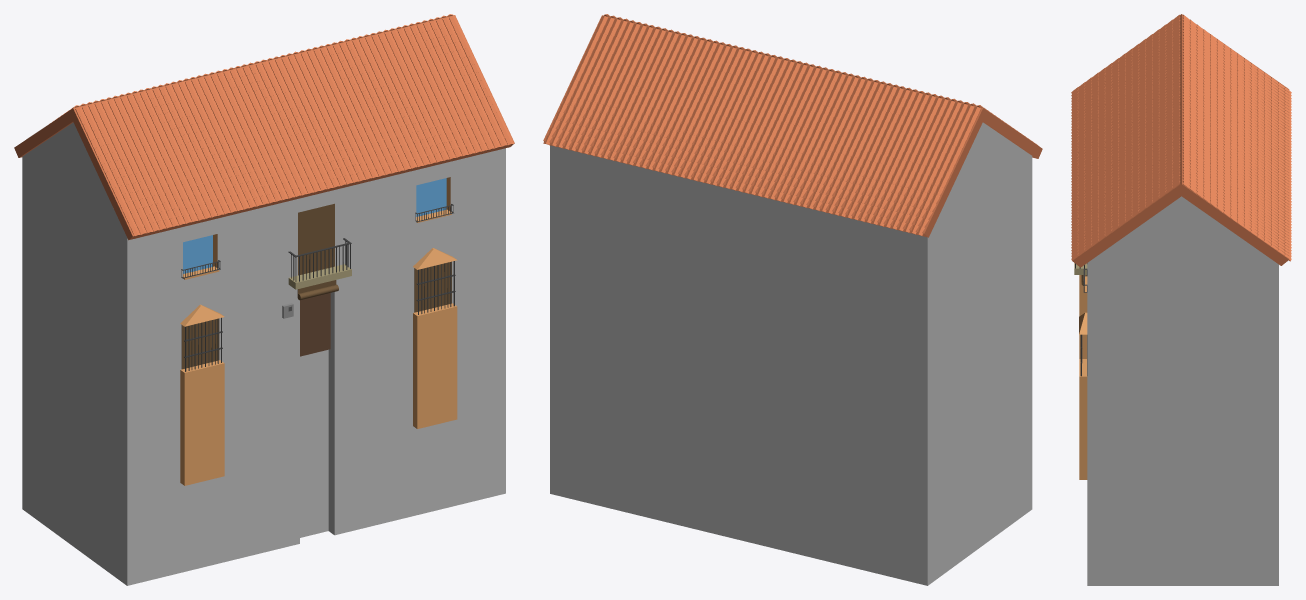
Rendered from 4_Casa_Benarraba_Javier_Sanchez.fbx.
The picture shows the model from 3 angles, left to right: view 1: azimuth 30°, elevation 25°; view 2: azimuth 150°, elevation 25°; view 3: azimuth 270°, elevation 25°; orthographic projection. The views are drawn at different scales.
Parts seen in each view (by area): view 1: Cube.016, Tejas_2.003, Cube.027, Cube.029, Cube.018, Plane.009, Cylinder, Plane.008, Plane.011, Barandilla1.004, Plane.010, Plane.006 (+2 smaller); view 2: Cube.016, Tejas_2.003, Cube.018; view 3: Cube.016, Tejas_2.003, Cube.018, Cube.027, Cube.029.
Boxes of the visible parts, <box> form: Cube.016: <box>22,122,505,585</box>; Tejas_2.003: <box>50,14,513,236</box>; Cube.027: <box>413,303,457,428</box>; Cube.029: <box>180,360,224,485</box>; Cube.018: <box>14,15,514,240</box>; Plane.009: <box>298,203,334,275</box>; Cylinder: <box>184,261,455,371</box>; Plane.008: <box>300,293,330,356</box>; Plane.011: <box>181,318,219,369</box>; Barandilla1.004: <box>181,204,453,281</box>; Plane.010: <box>414,261,451,312</box>; Plane.006: <box>416,178,446,216</box>; Cube.016: <box>550,122,1032,585</box>; Tejas_2.003: <box>543,14,1038,236</box>; Cube.018: <box>543,15,1042,237</box>; Cube.016: <box>1087,196,1278,585</box>; Tejas_2.003: <box>1071,14,1291,261</box>; Cube.018: <box>1072,14,1289,267</box>; Cube.027: <box>1079,359,1087,479</box>; Cube.029: <box>1079,275,1087,358</box>.
Bounding box in the file's own units: 1353 × 1495 × 741.
